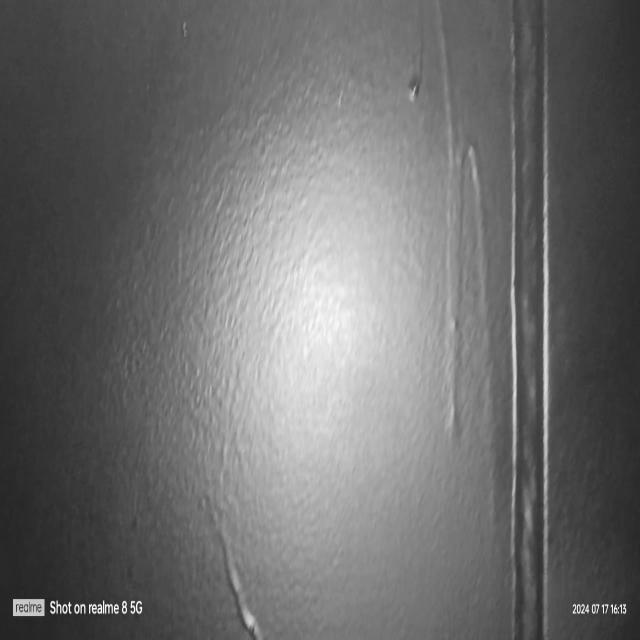paint drips: (403, 3, 512, 540), (203, 485, 272, 640)
